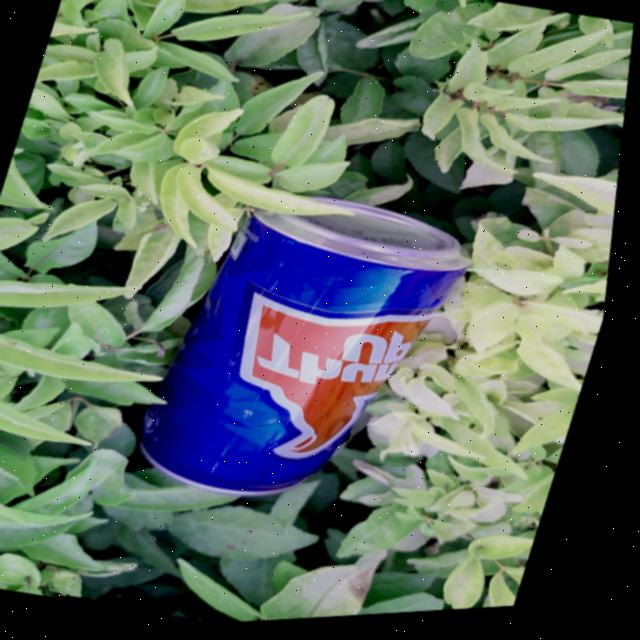Thums Up: (115, 164, 502, 545)
